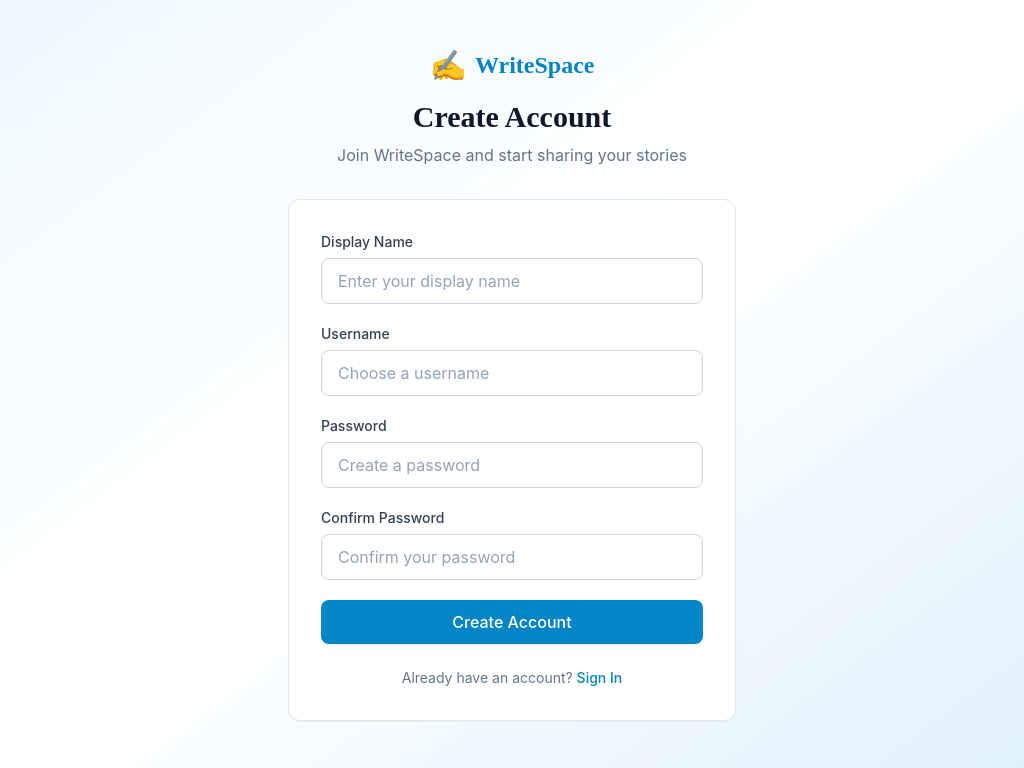
Test: App › registration flow › register form creates account and redirects to /blogs
Type "New User" into the field labelled "Display Name" at (512, 281), box [321,258,703,304]
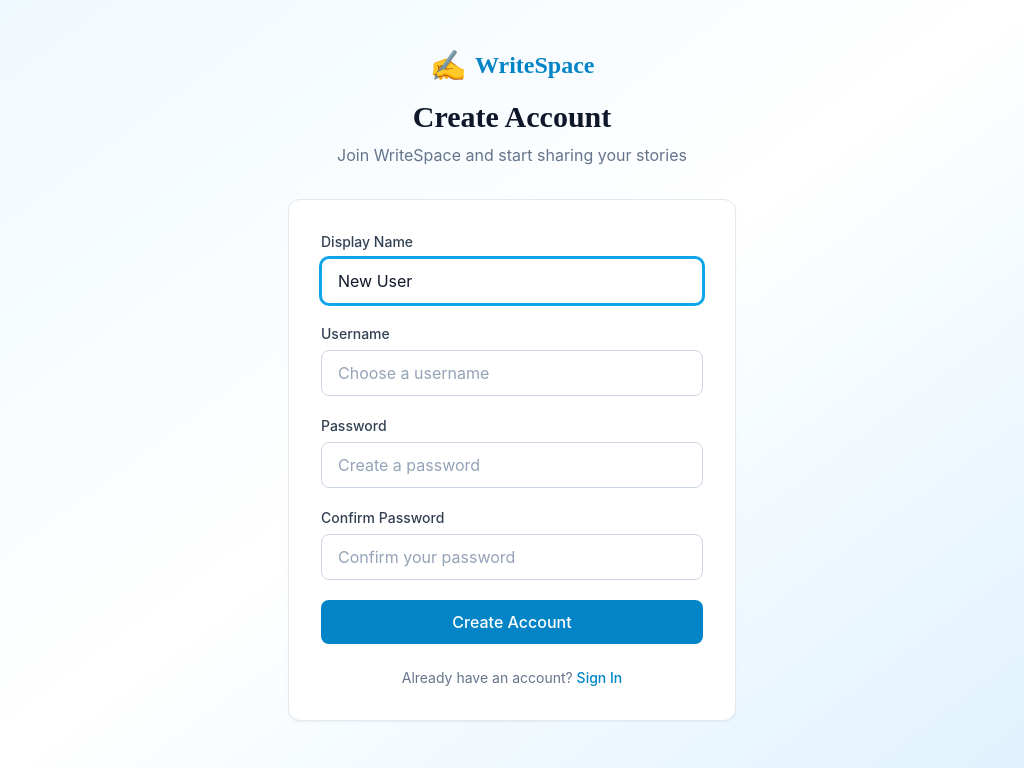
Type "newuser" into the field labelled "Username" at (512, 373), box [321,350,703,396]
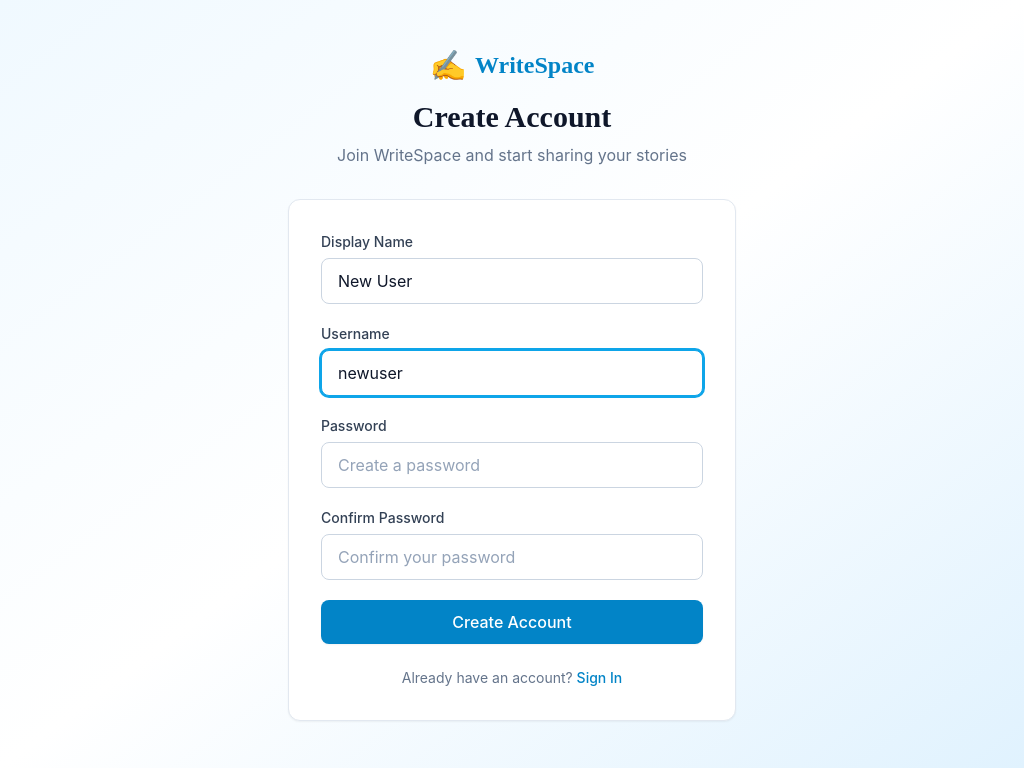
Type "password123" into the password field labelled "Password" at (512, 465), box [321,442,703,488]
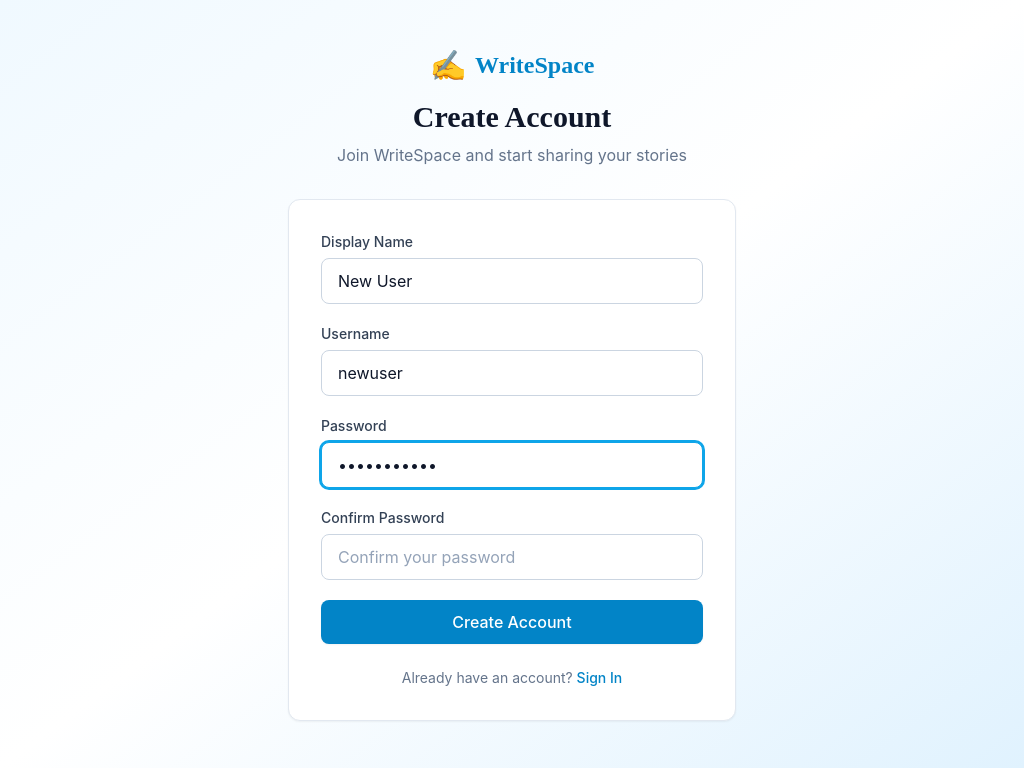
Type "password123" into the password field labelled "Confirm Password" at (512, 557), box [321,534,703,580]
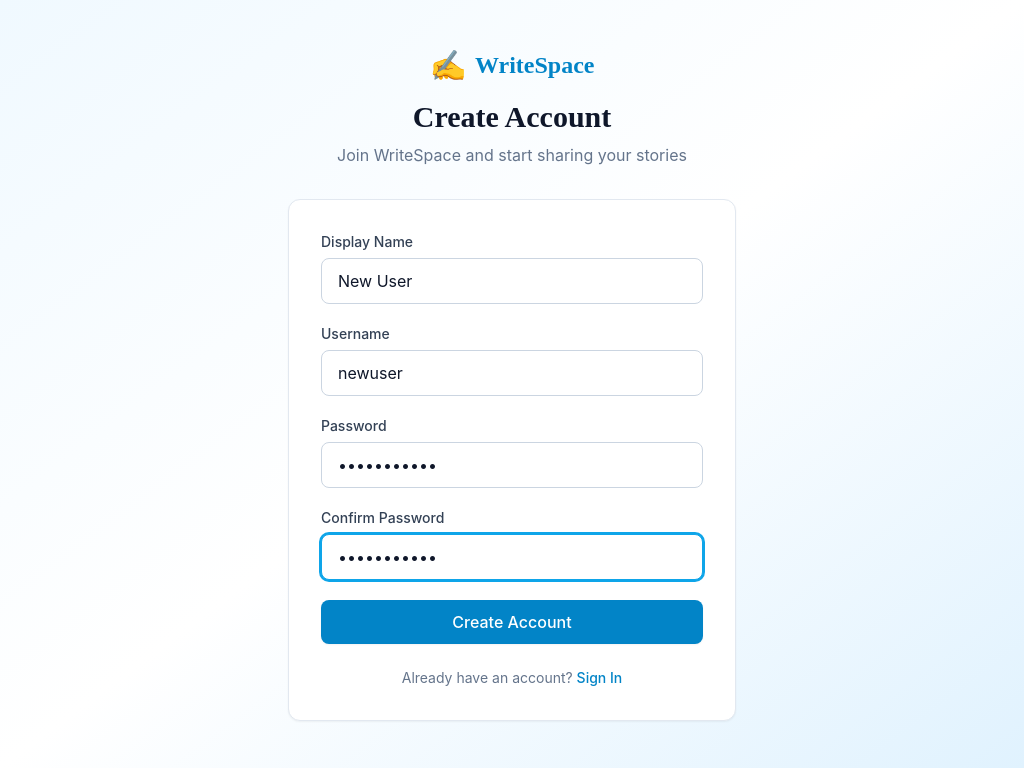
Click the button "Create Account" at (512, 622), box [321,600,703,644]
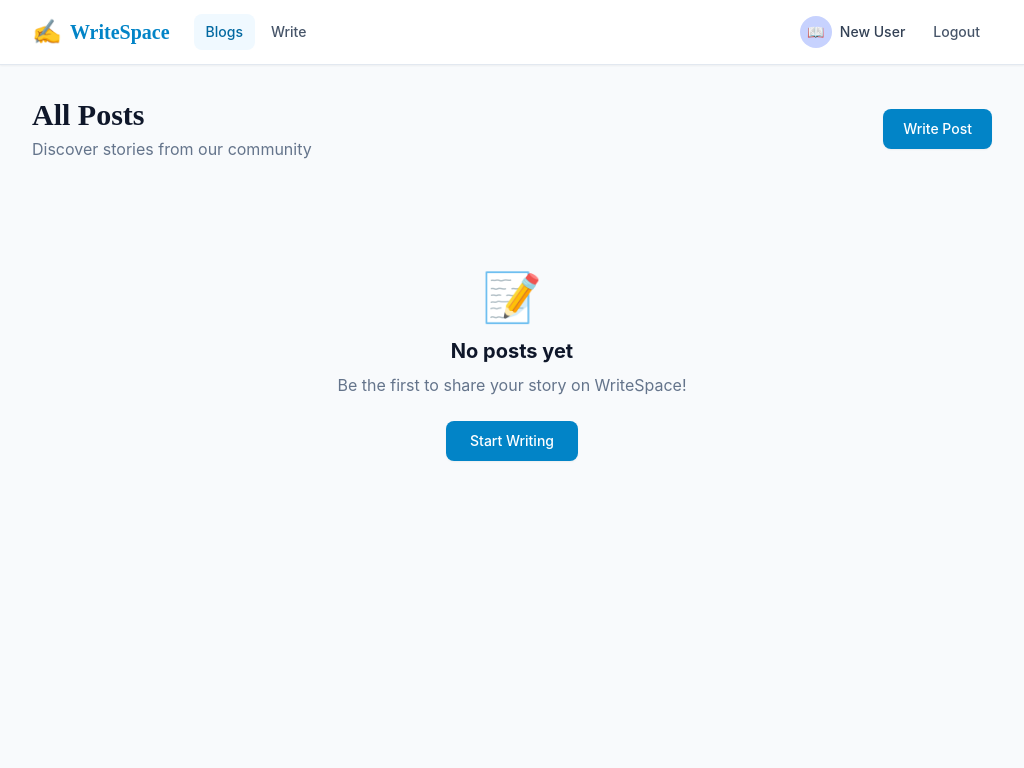
Check: the heading "All Posts" is shown, box [32,98,144,131]
